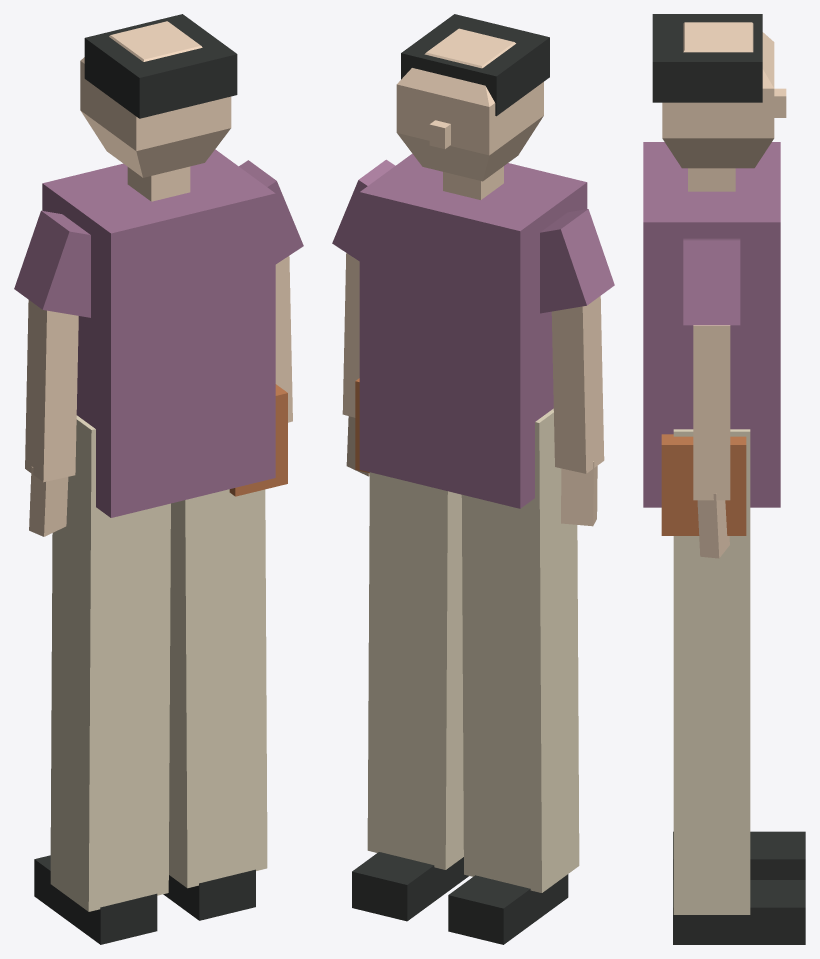
File: pedestrian_07.glb
3 views of the same model, side by side, from view 1: azimuth 30°, elevation 25°; view 2: azimuth 150°, elevation 25°; view 3: azimuth 270°, elevation 25° (orthographic). The views are drawn at different scales.
Visible parts, largest first — view 1: pedestrian_07 crowd_trousers, pedestrian_07 crowd_shirt, pedestrian_07 crowd_skin, pedestrian_07 crowd_rubber, pedestrian_07 crowd_accessory; view 2: pedestrian_07 crowd_trousers, pedestrian_07 crowd_shirt, pedestrian_07 crowd_skin, pedestrian_07 crowd_rubber; view 3: pedestrian_07 crowd_shirt, pedestrian_07 crowd_trousers, pedestrian_07 crowd_skin, pedestrian_07 crowd_rubber, pedestrian_07 crowd_accessory.
Part boxes in pixels (box(x1,y1,x2,y2)): pedestrian_07 crowd_trousers: box(50, 415, 267, 911); pedestrian_07 crowd_shirt: box(14, 149, 303, 517); pedestrian_07 crowd_skin: box(25, 21, 292, 536); pedestrian_07 crowd_rubber: box(34, 14, 255, 944); pedestrian_07 crowd_accessory: box(229, 384, 287, 496); pedestrian_07 crowd_trousers: box(367, 408, 579, 892); pedestrian_07 crowd_shirt: box(332, 153, 614, 508); pedestrian_07 crowd_skin: box(342, 28, 604, 526); pedestrian_07 crowd_rubber: box(352, 14, 568, 944); pedestrian_07 crowd_shirt: box(643, 142, 780, 507); pedestrian_07 crowd_trousers: box(673, 429, 750, 914); pedestrian_07 crowd_skin: box(662, 22, 786, 558); pedestrian_07 crowd_rubber: box(652, 14, 805, 944); pedestrian_07 crowd_accessory: box(661, 434, 746, 535).
Size of the model in its own units: 0.5488 by 1.74 by 0.2952.
